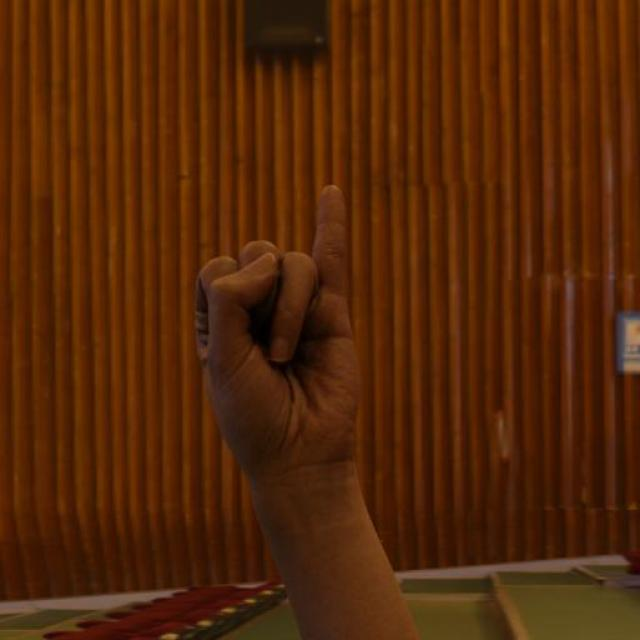I: (155, 154, 408, 640)
